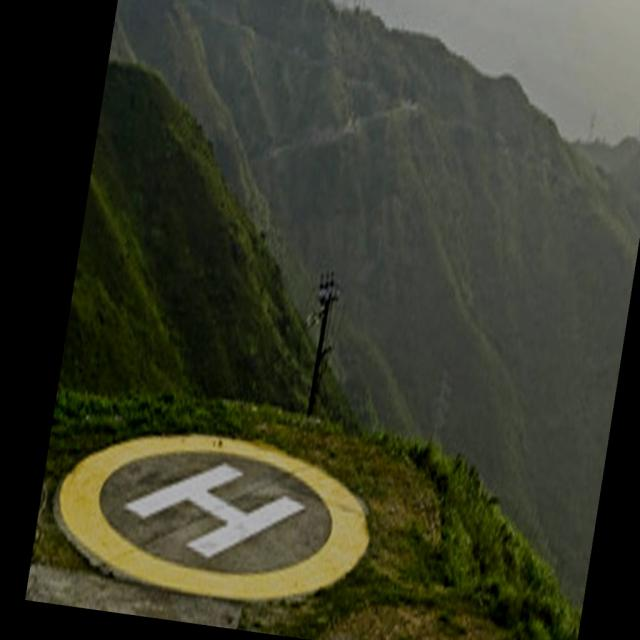helipad: (51, 421, 375, 606)
